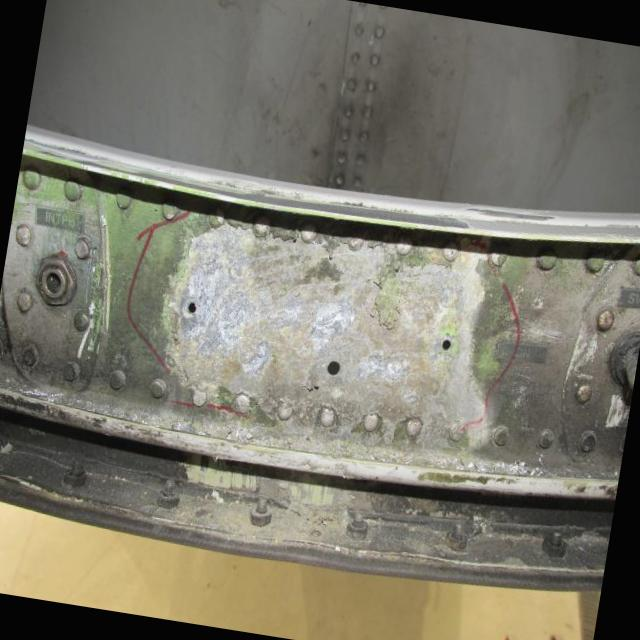Missing Fastener: (319, 352, 351, 382), (434, 328, 458, 360), (180, 294, 203, 321)
